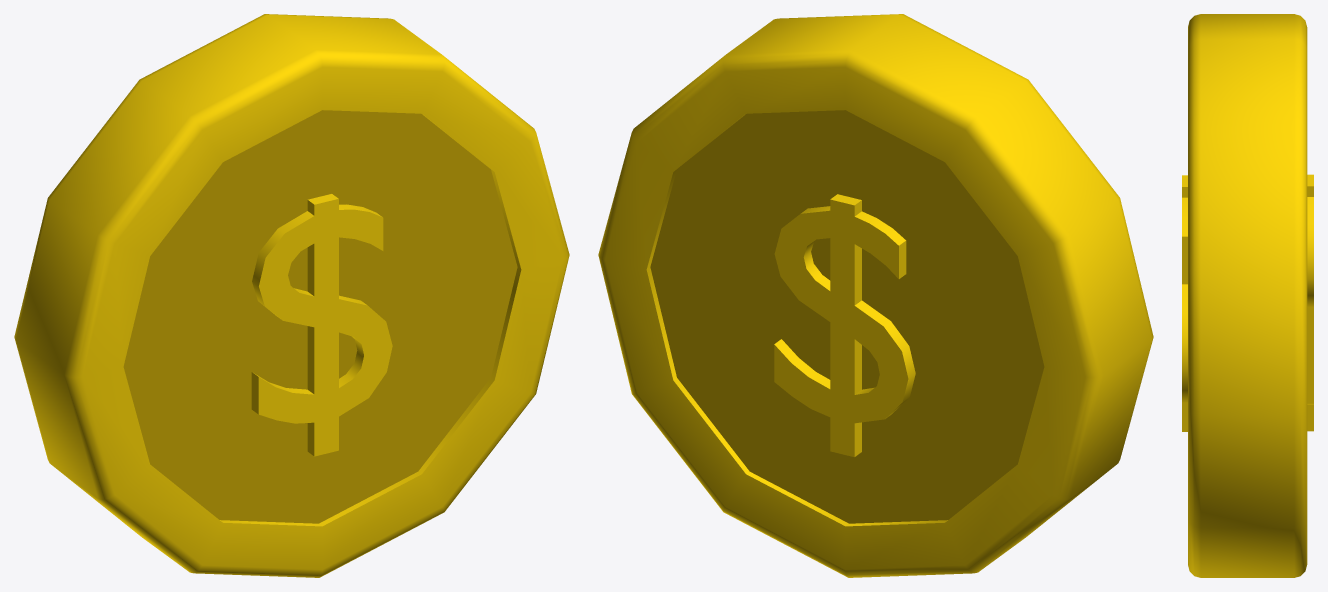
Rendered from Money Coin.fbx.
The picture shows the model from 3 angles, left to right: view 1: azimuth 30°, elevation 25°; view 2: azimuth 150°, elevation 25°; view 3: azimuth 270°, elevation 25°; orthographic projection. The views are drawn at different scales.
Parts seen in each view (by area): view 1: Money Coin; view 2: Money Coin; view 3: Money Coin.
Boxes of the visible parts, left/top/right/bottom form: Money Coin: left=14, top=14, right=569, bottom=577; Money Coin: left=598, top=14, right=1153, bottom=577; Money Coin: left=1182, top=14, right=1313, bottom=577.
Bounding box in the file's own units: 0.2371 × 0.2371 × 0.0552.
